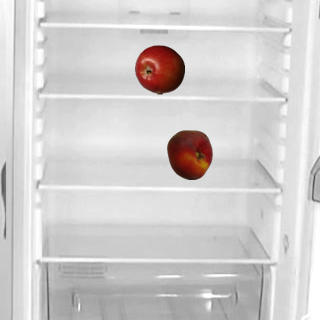Apple Braeburn: (134, 44, 184, 94)
Nectarine Flat: (164, 129, 214, 179)
